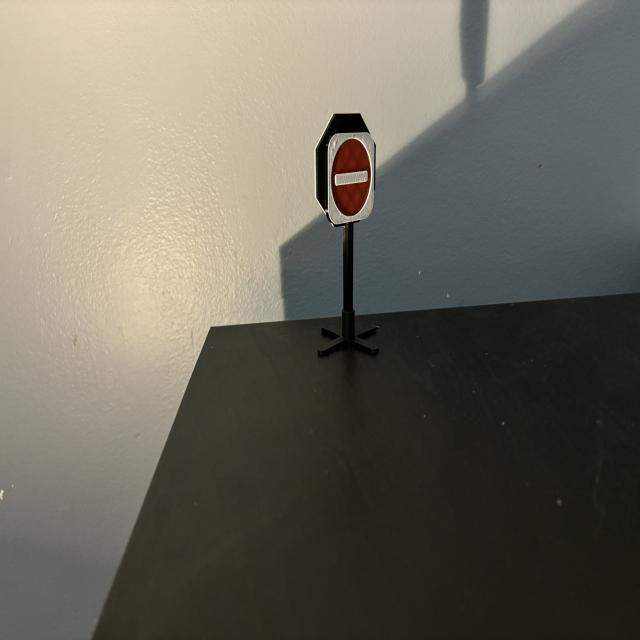sign_noentry: (329, 133, 376, 225)
